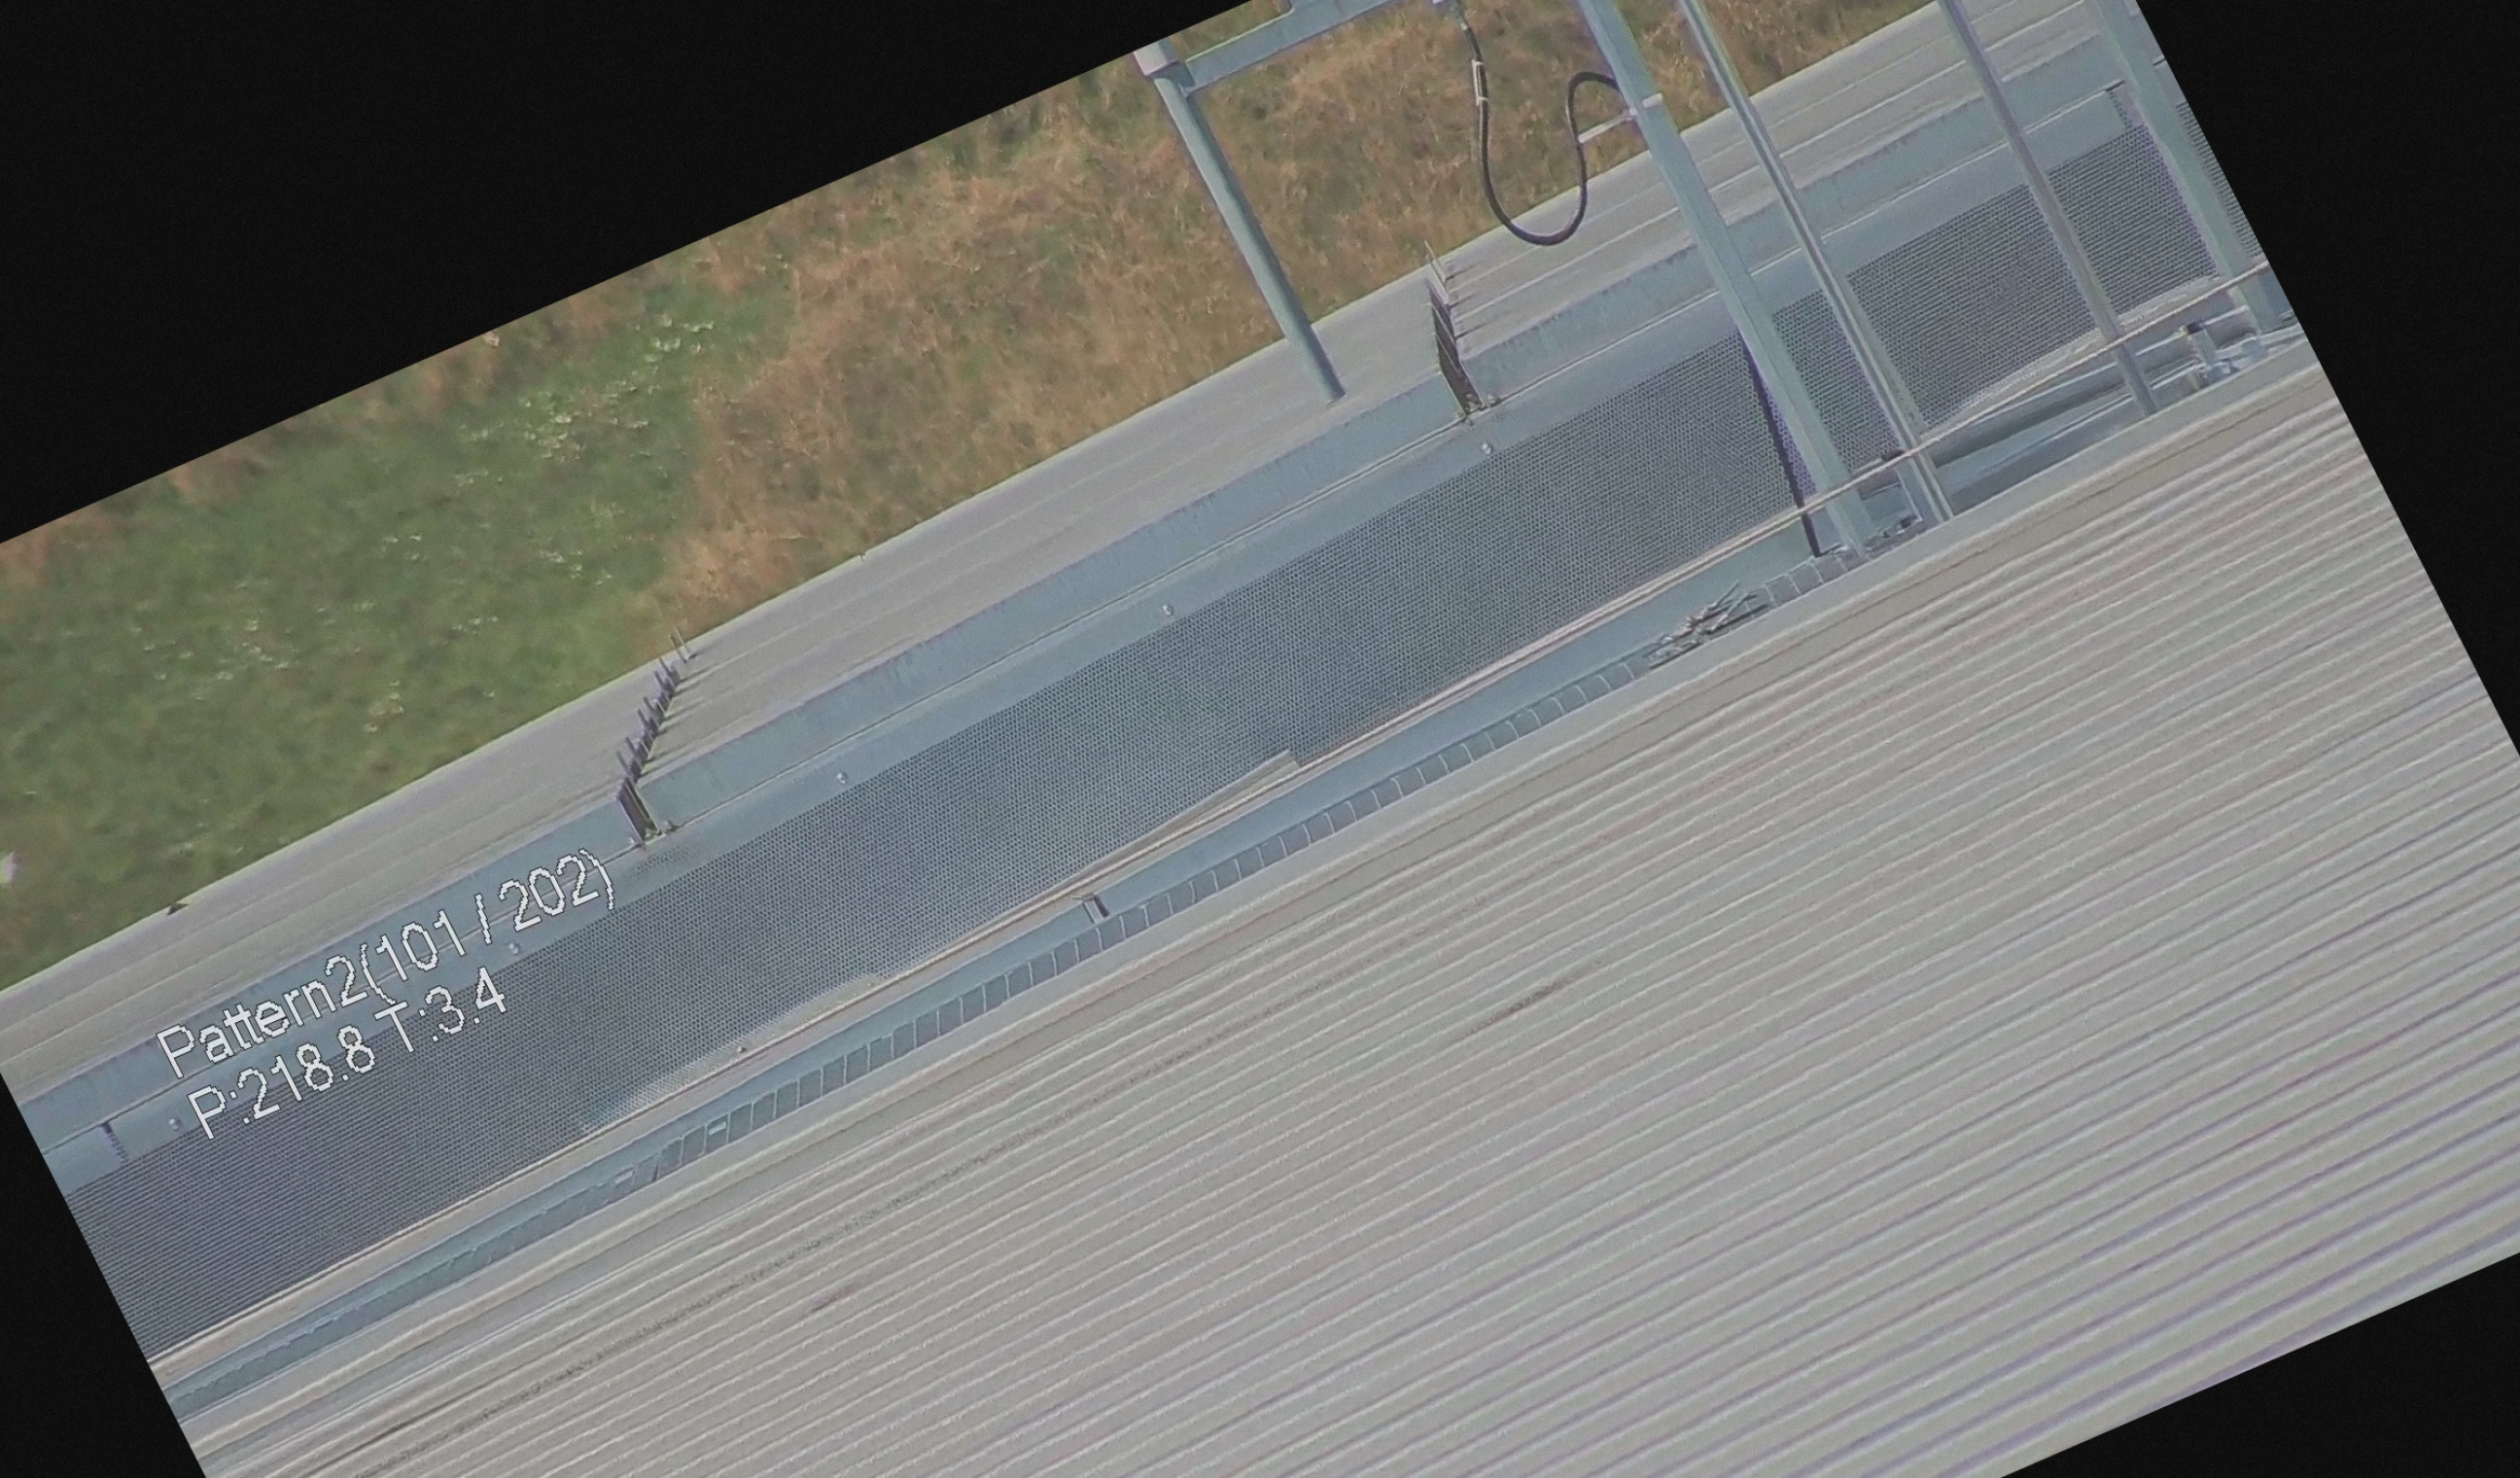Other: (1384, 252, 1528, 429)
